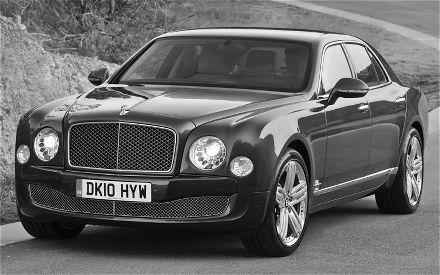car: (19, 27, 429, 258)
